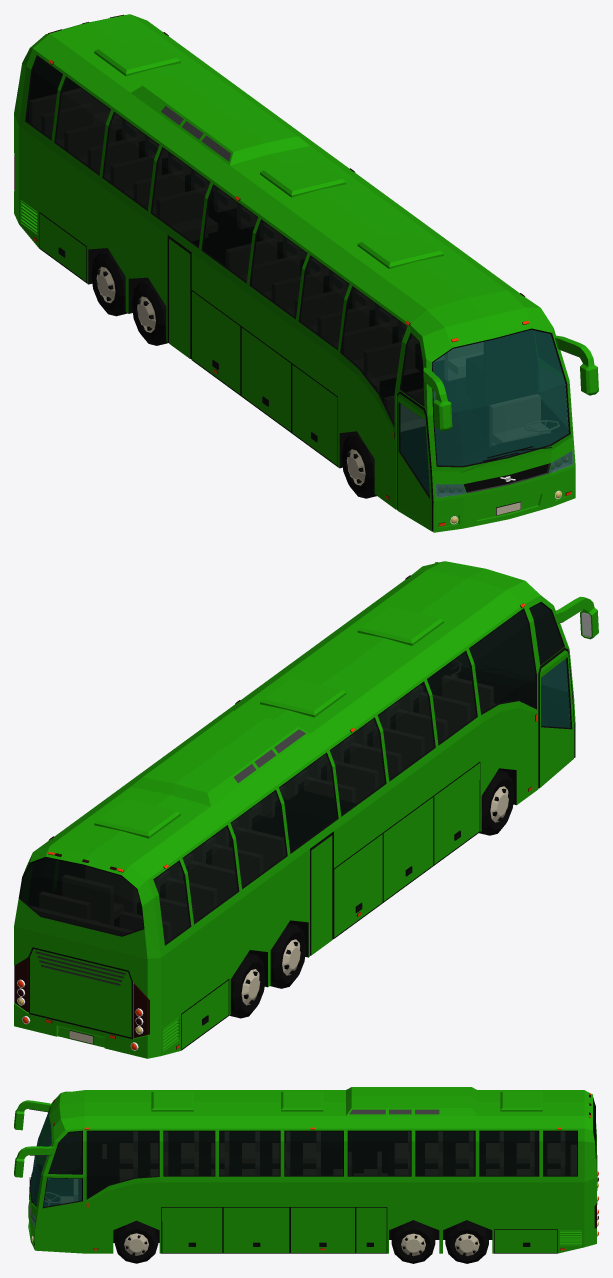
Rendered from Coach_01.FBX.
The picture shows the model from 3 angles, top to bottom: view 1: azimuth 30°, elevation 25°; view 2: azimuth 150°, elevation 25°; view 3: azimuth 270°, elevation 25°; orthographic projection. The views are drawn at different scales.
Parts seen in each view (by area): view 1: Coach_01, interior, wheels_b1_r, wheels_b2_r, wheel_f_r, mirror_l, mirror_r; view 2: Coach_01, wheels_b1_r, wheels_b2_r, wheel_f_r, interior, tailLights, mirror_r; view 3: Coach_01, interior, wheels_b1_l, wheels_b2_l, wheel_f_l, mirror_l, mirror_r.
Part boxes in pixels (box(x1,y1,x2,y2)): Coach_01: box(14, 14, 575, 532); interior: box(400, 330, 568, 495); wheels_b1_r: box(132, 280, 168, 345); wheels_b2_r: box(91, 250, 127, 316); wheel_f_r: box(341, 433, 376, 498); mirror_l: box(555, 335, 598, 395); mirror_r: box(423, 367, 452, 431); Coach_01: box(14, 561, 575, 1058); wheels_b1_r: box(270, 923, 306, 988); wheels_b2_r: box(229, 953, 265, 1018); wheel_f_r: box(479, 770, 514, 835); interior: box(27, 659, 569, 957); tailLights: box(14, 853, 149, 1037); mirror_r: box(554, 596, 598, 639); Coach_01: box(28, 1087, 597, 1253); interior: box(30, 1110, 81, 1206); wheels_b1_l: box(391, 1220, 435, 1263); wheels_b2_l: box(445, 1220, 488, 1263); wheel_f_l: box(114, 1220, 158, 1263); mirror_l: box(14, 1146, 55, 1177); mirror_r: box(14, 1100, 51, 1130).
Bounding box in the file's own units: 33.03 × 43.36 × 159.
